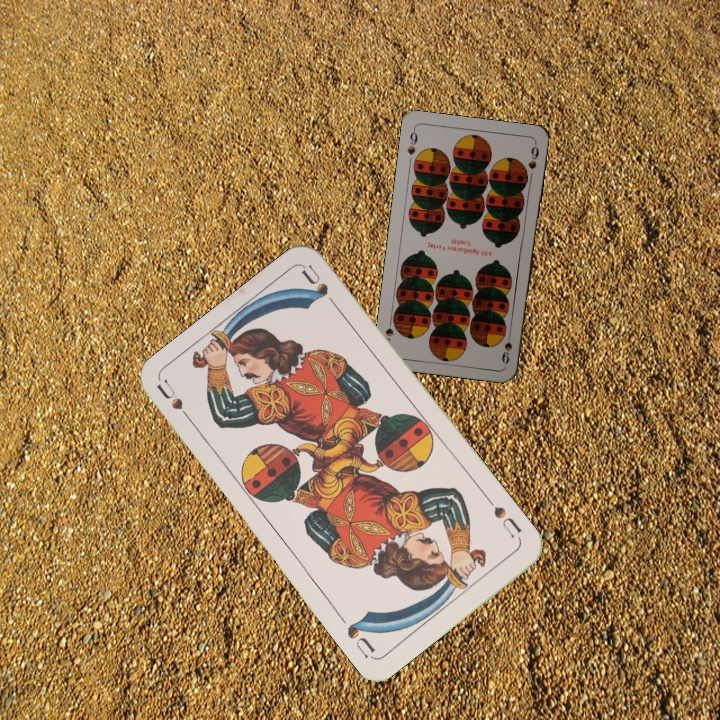S9: (498, 327, 515, 366), (403, 125, 420, 158)
SU: (154, 376, 198, 429), (482, 493, 524, 541)
